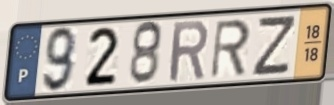2: (84, 25, 123, 88)
8: (126, 19, 165, 89)
9: (42, 25, 80, 95)
R: (167, 17, 210, 85), (208, 17, 252, 81)
Z: (249, 13, 299, 79)
